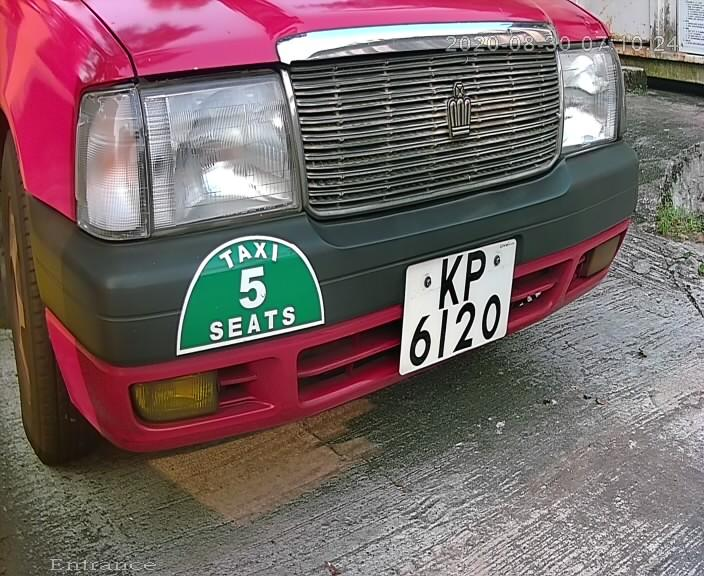License Plate: (393, 235, 519, 376)
